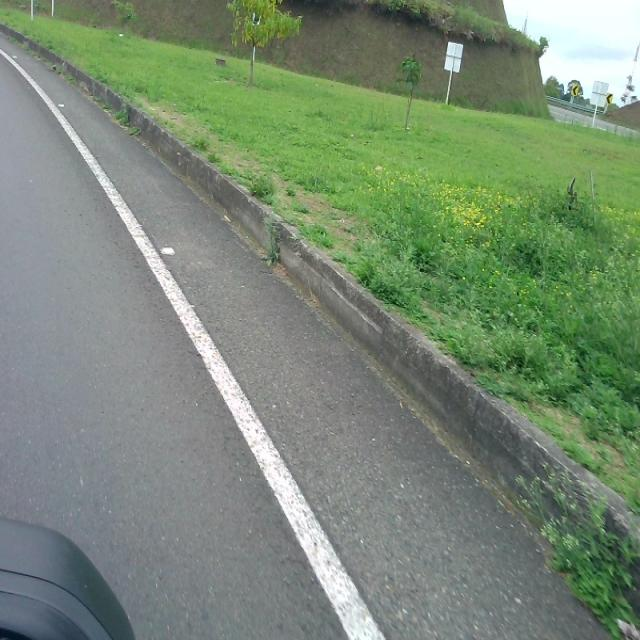DITCH: (1, 23, 637, 638), (60, 82, 638, 638)
